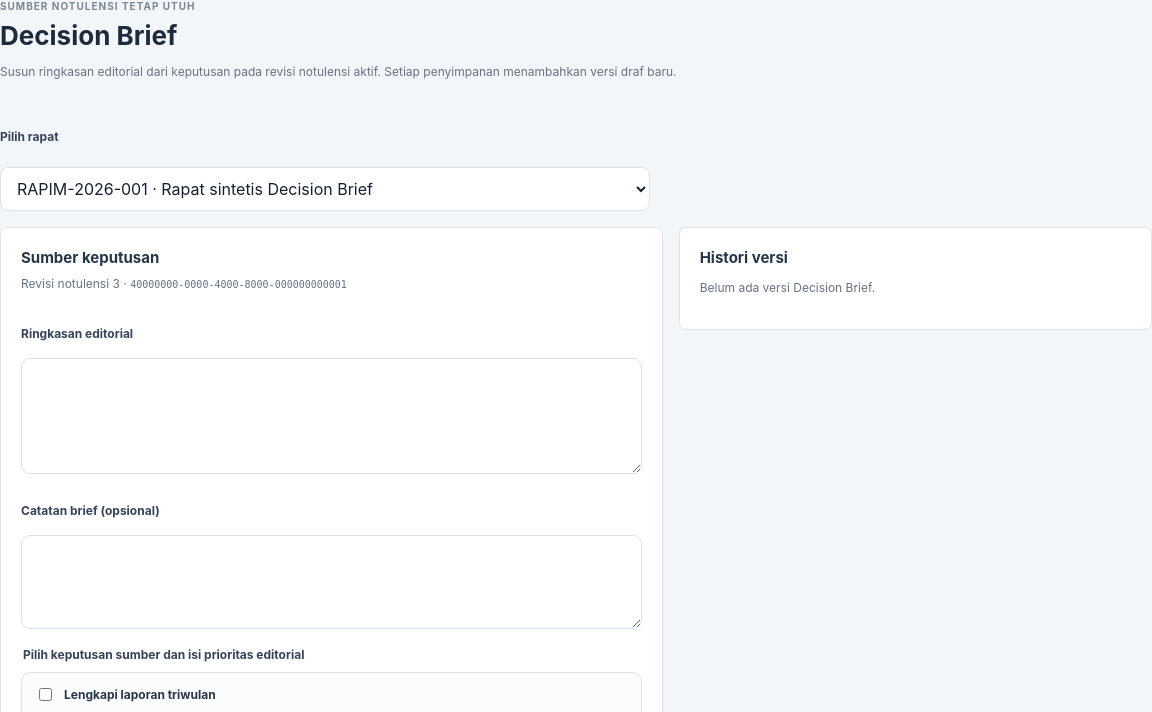
Test: DecisionBriefEditor › preserves the attempted draft on a stale source conflict without resubmitting it
Step 1. Type "Prioritas yang sedang disusun." into the text box labelled "Ringkasan editorial" → (331,416), box x1=21 y1=358 x2=642 y2=474
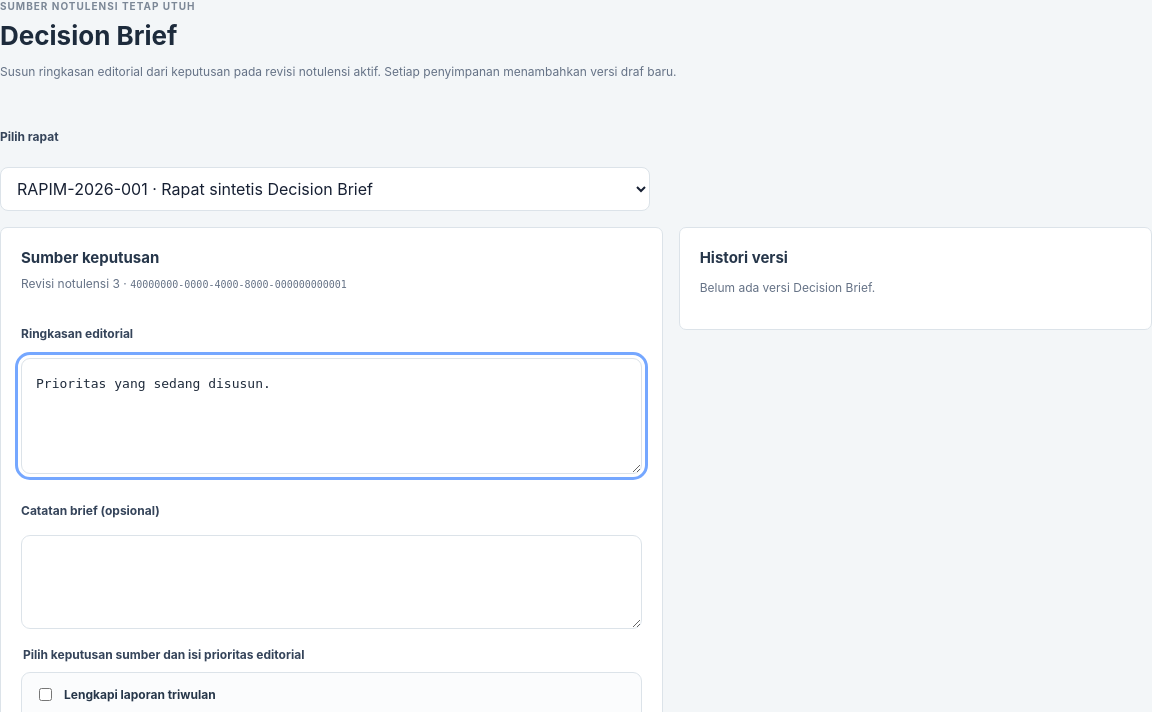
Step 2. Type "Catatan yang belum tersimpan." into the text box labelled "Catatan brief (opsional)" → (331,582), box x1=21 y1=535 x2=642 y2=629
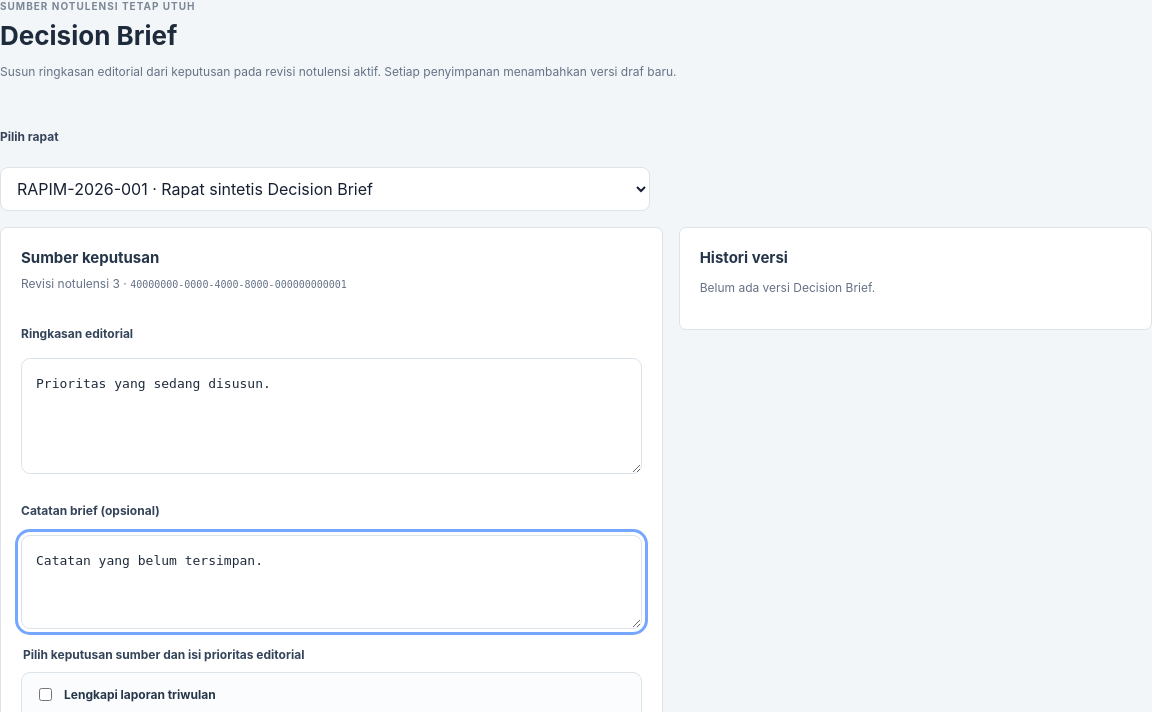
Step 3. Click the checkbox labelled "Lengkapi laporan triwulan" → (46,695), box x1=39 y1=688 x2=52 y2=701
(page scrolled)
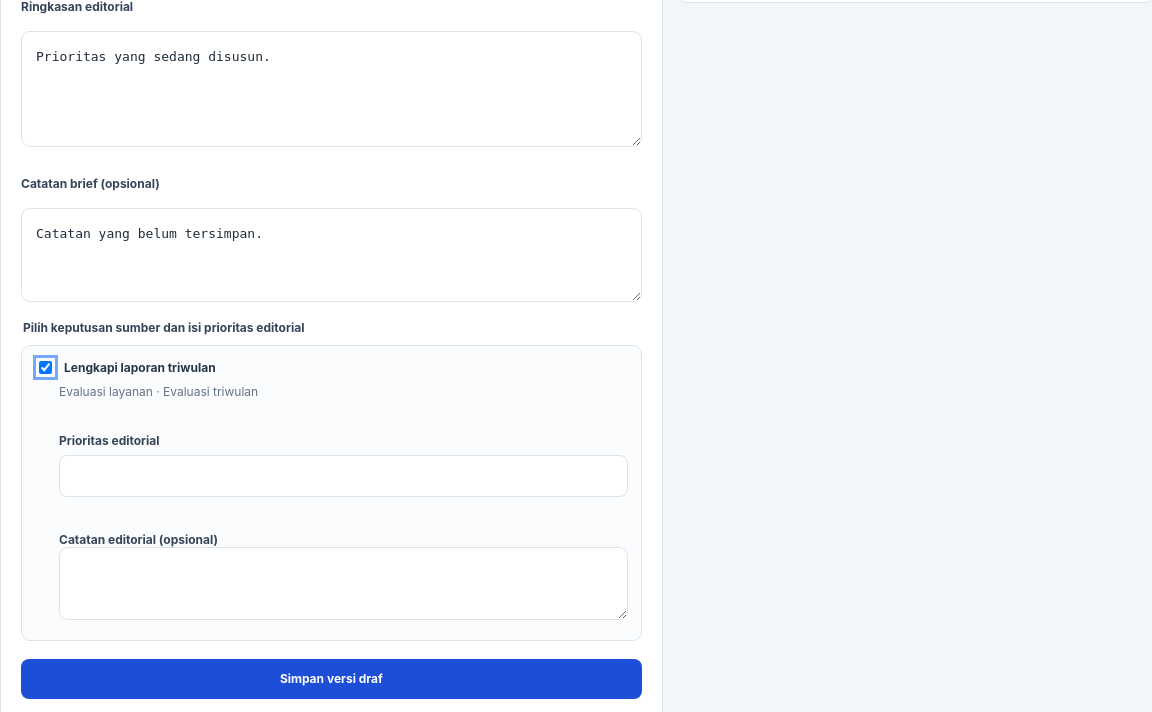
Step 4. Type "Prioritas utama" into the field labelled "Prioritas editorial" → (343,476), box x1=59 y1=455 x2=628 y2=497
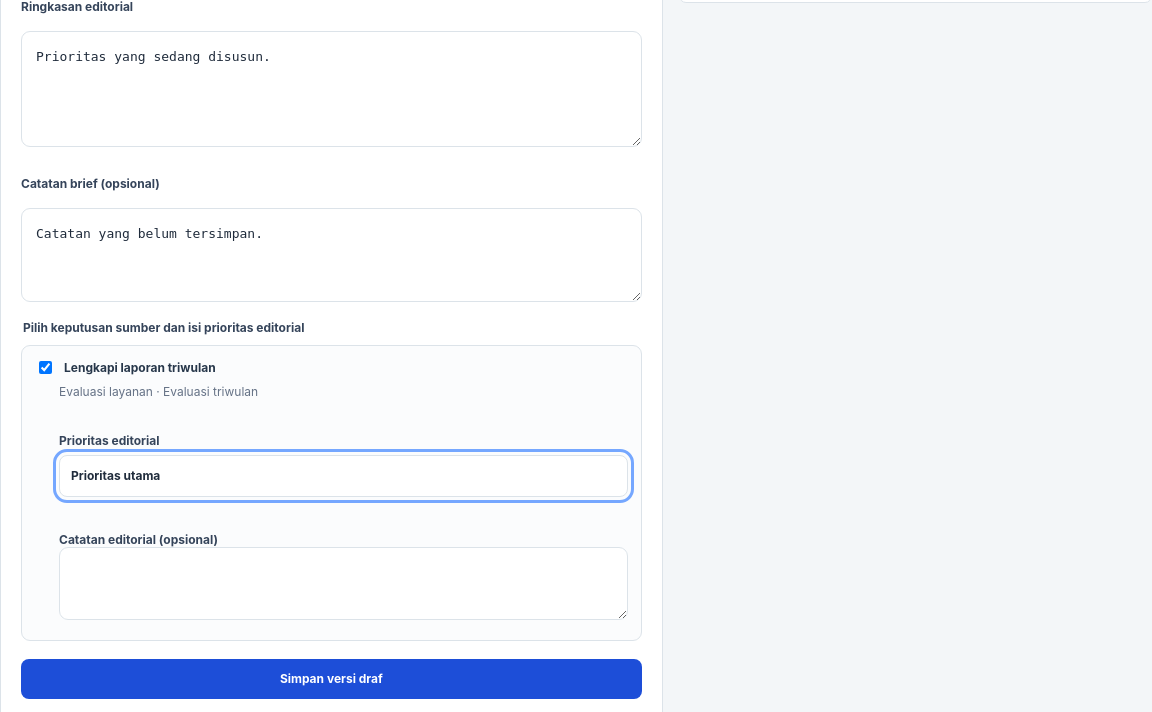
Step 5. Type "Verifikasi angka sebelum distribusi." into the text box labelled "Catatan editorial (opsional)" → (343,583), box x1=59 y1=547 x2=628 y2=620
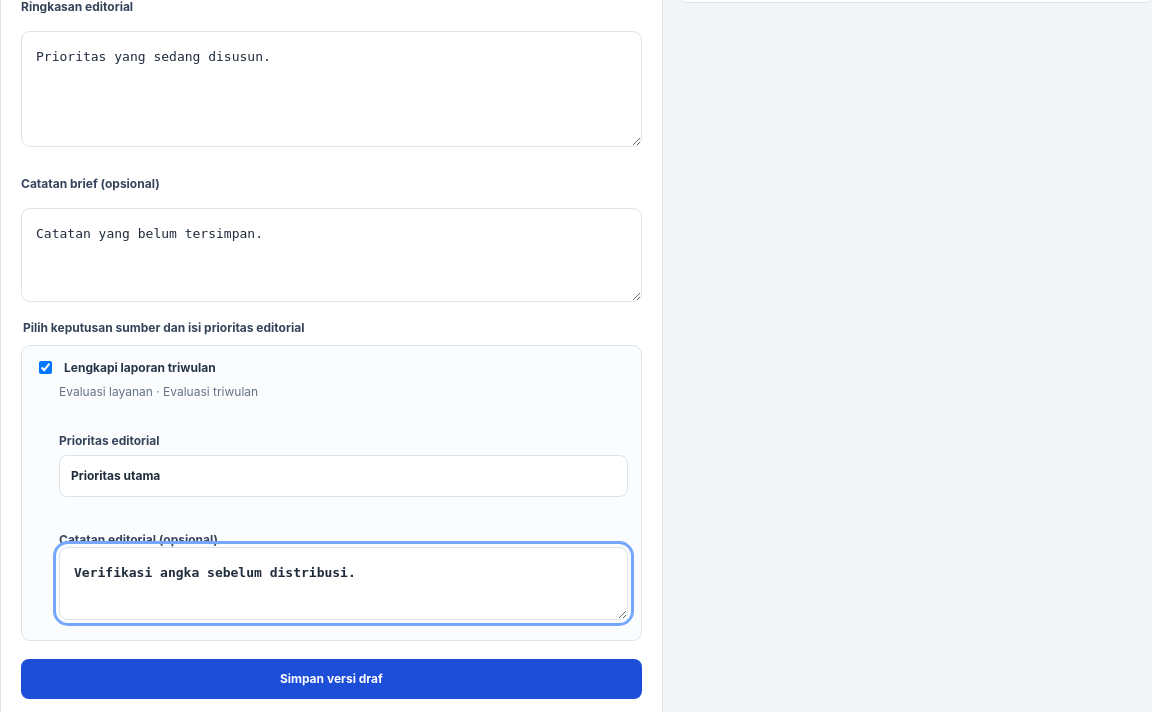
Step 6. Click the button "Simpan versi draf" → (331,679), box x1=21 y1=659 x2=642 y2=699
(page scrolled)
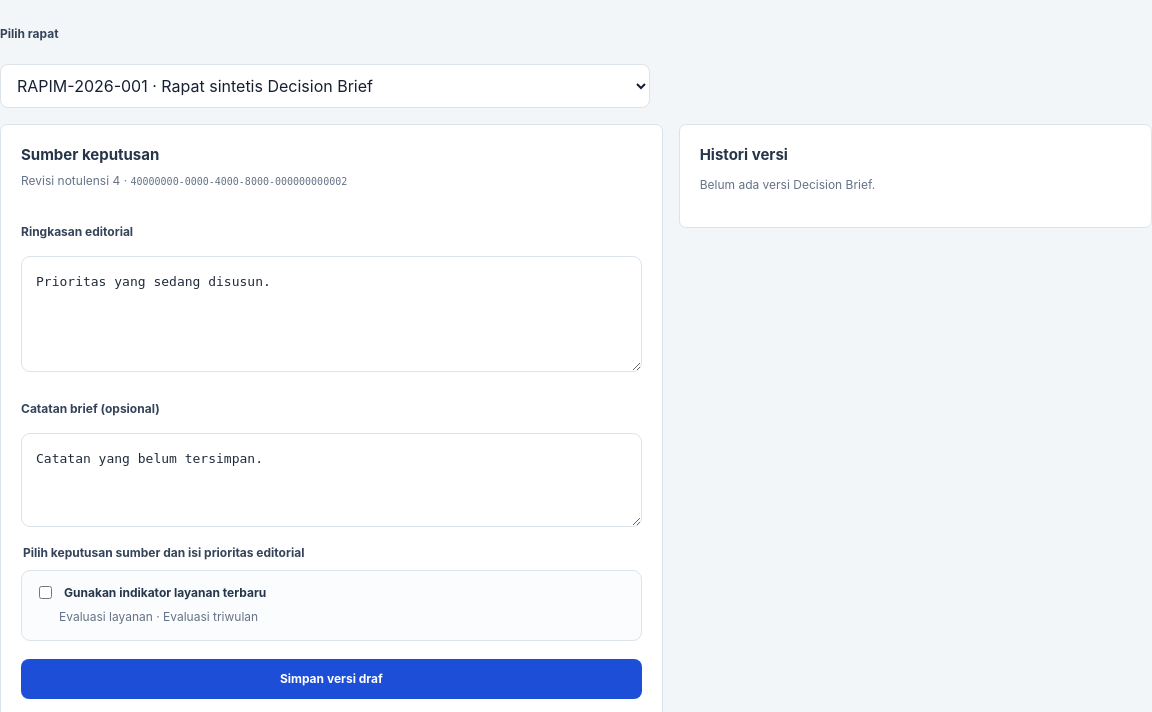
Now the text "Prioritas yang sedang disusun." is shown 2 times
Now the text "Catatan yang belum tersimpan." is shown 2 times
Now the text "Gunakan indikator layanan terbaru" is shown, box x1=64 y1=584 x2=266 y2=602
